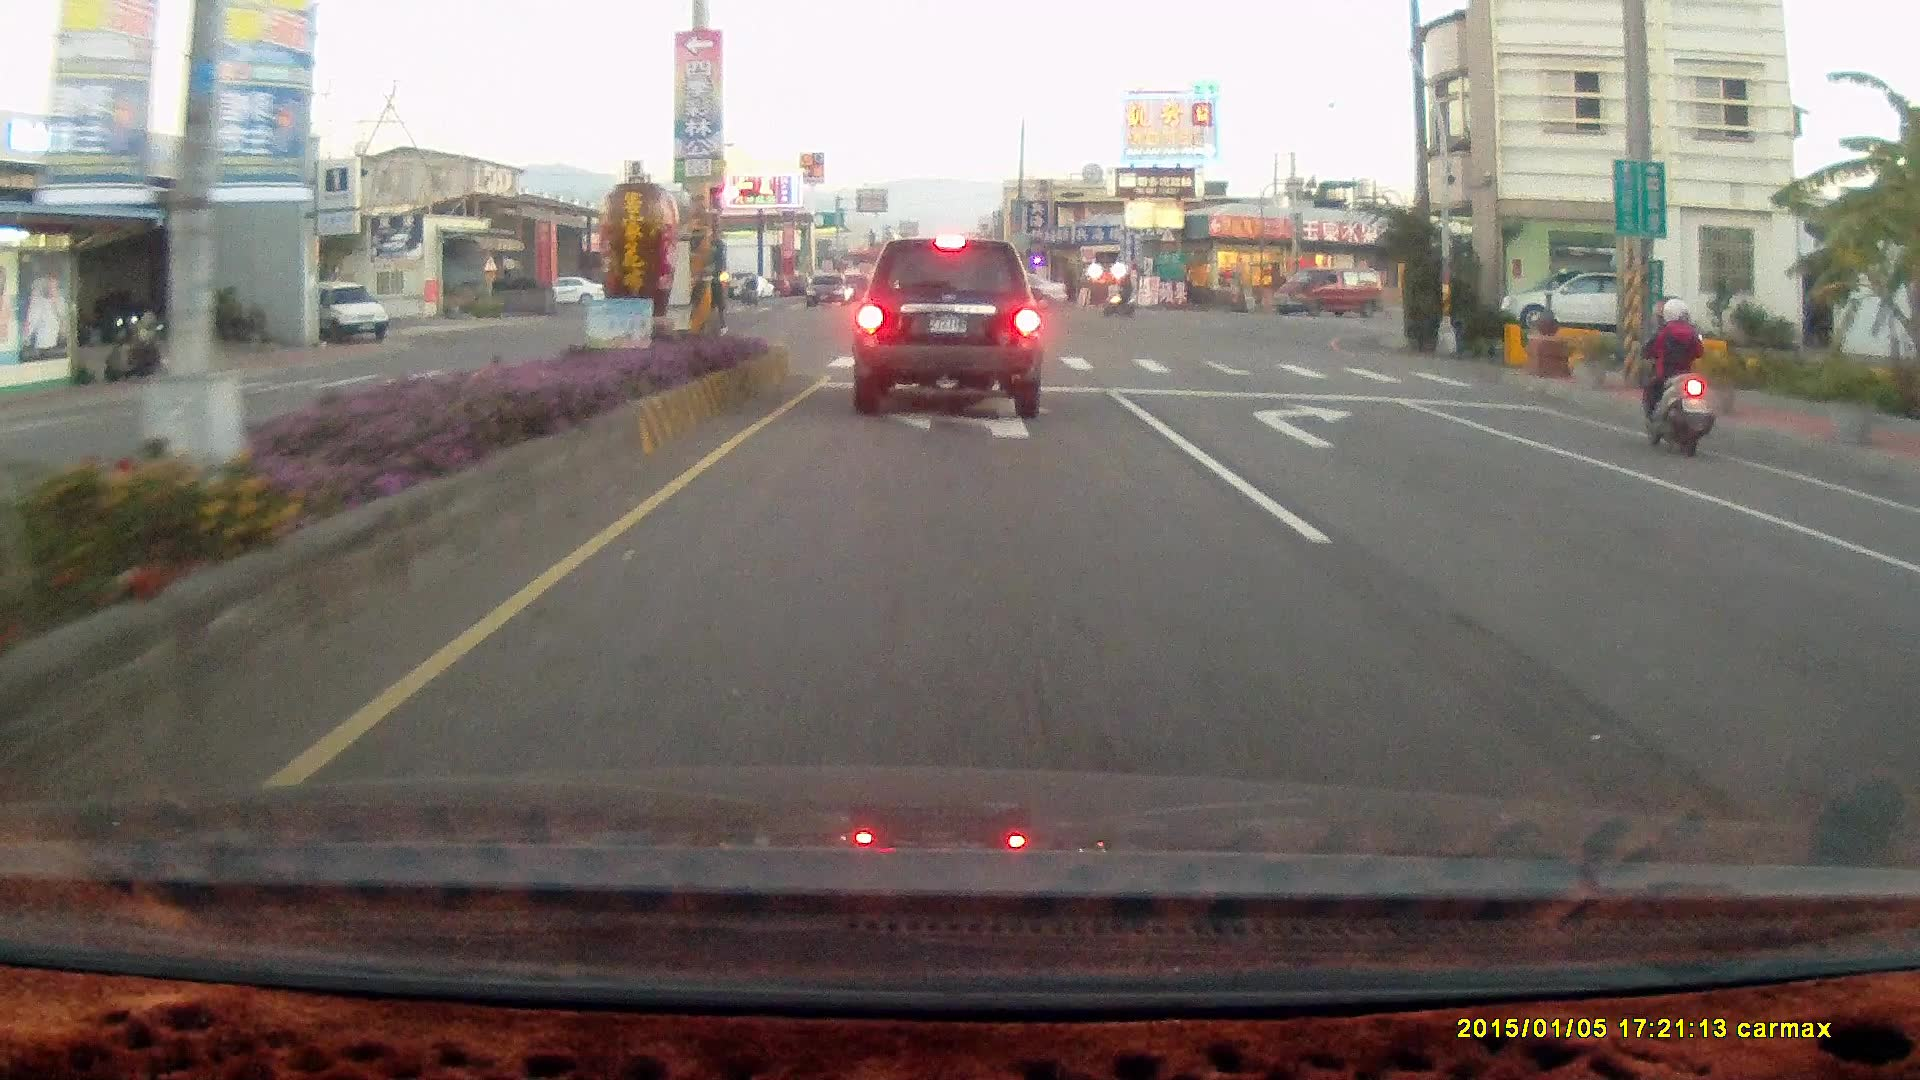rider: (1636, 291, 1713, 455), (1100, 271, 1137, 316)
vehicle: (850, 236, 1043, 417), (1498, 266, 1661, 333), (1896, 493, 1920, 836), (1499, 273, 1630, 333), (1883, 528, 1920, 690), (304, 280, 393, 345), (1272, 265, 1384, 315), (1273, 268, 1378, 316), (955, 272, 1066, 318), (955, 269, 1066, 313)
